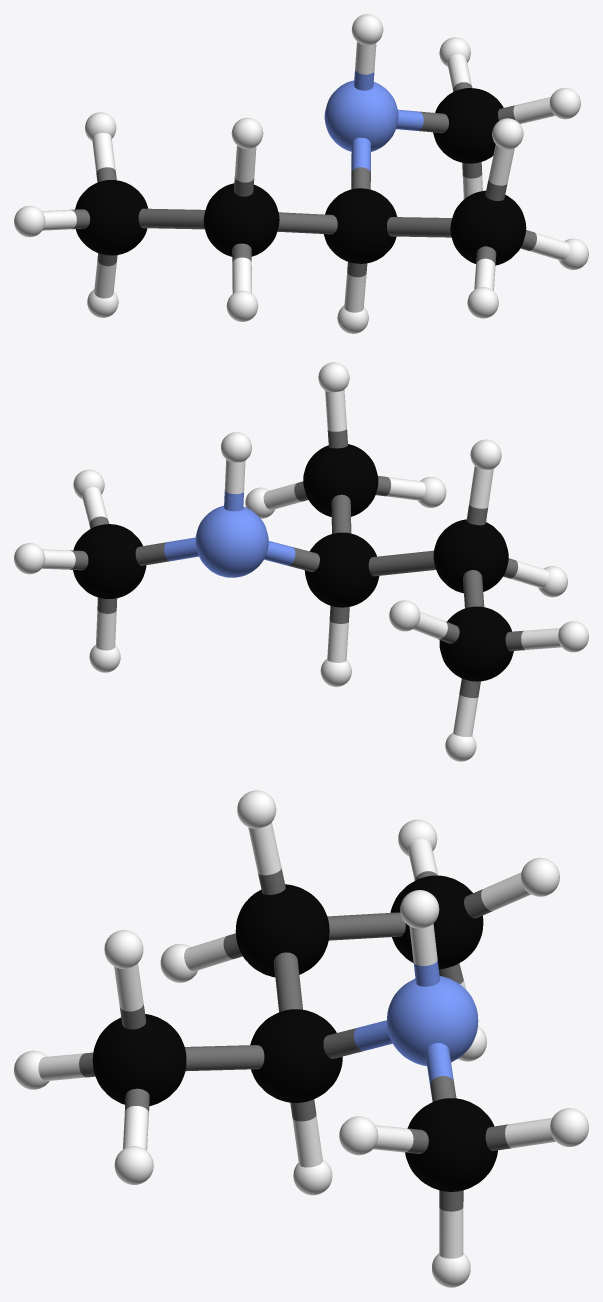
The model's file is n-methylbutan-2-amine.glb.
The picture shows the model from 3 angles, top to bottom: view 1: azimuth 30°, elevation 25°; view 2: azimuth 150°, elevation 25°; view 3: azimuth 270°, elevation 25°; orthographic projection. The views are drawn at different scales.
Visible parts, largest first — view 1: Hydrogen_ball.011, Hydrogen_sticks_cylinder.123; view 2: Hydrogen_ball.011, Hydrogen_sticks_cylinder.123; view 3: Hydrogen_ball.011, Hydrogen_sticks_cylinder.123.
Boxes of the visible parts, <box> form: Hydrogen_ball.011: <box>14,14,588,333</box>; Hydrogen_sticks_cylinder.123: <box>42,42,569,312</box>; Hydrogen_ball.011: <box>14,362,588,761</box>; Hydrogen_sticks_cylinder.123: <box>42,390,561,737</box>; Hydrogen_ball.011: <box>14,790,588,1287</box>; Hydrogen_sticks_cylinder.123: <box>38,822,555,1258</box>.
Bounding box in the file's own units: 6.34 × 3.05 × 4.72.
